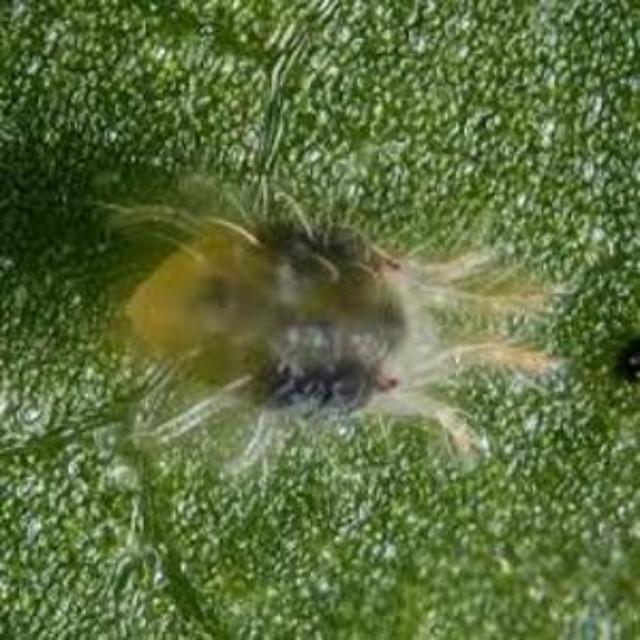spider mite: (91, 132, 548, 510)
